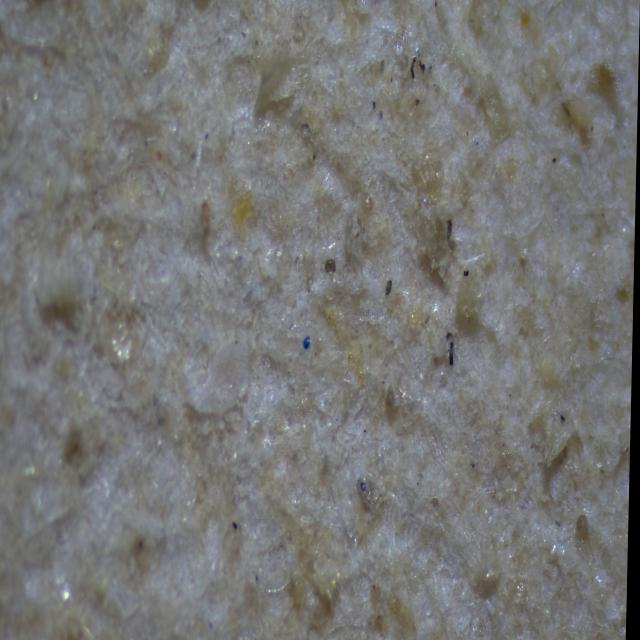microplastic: (293, 328, 318, 357)
